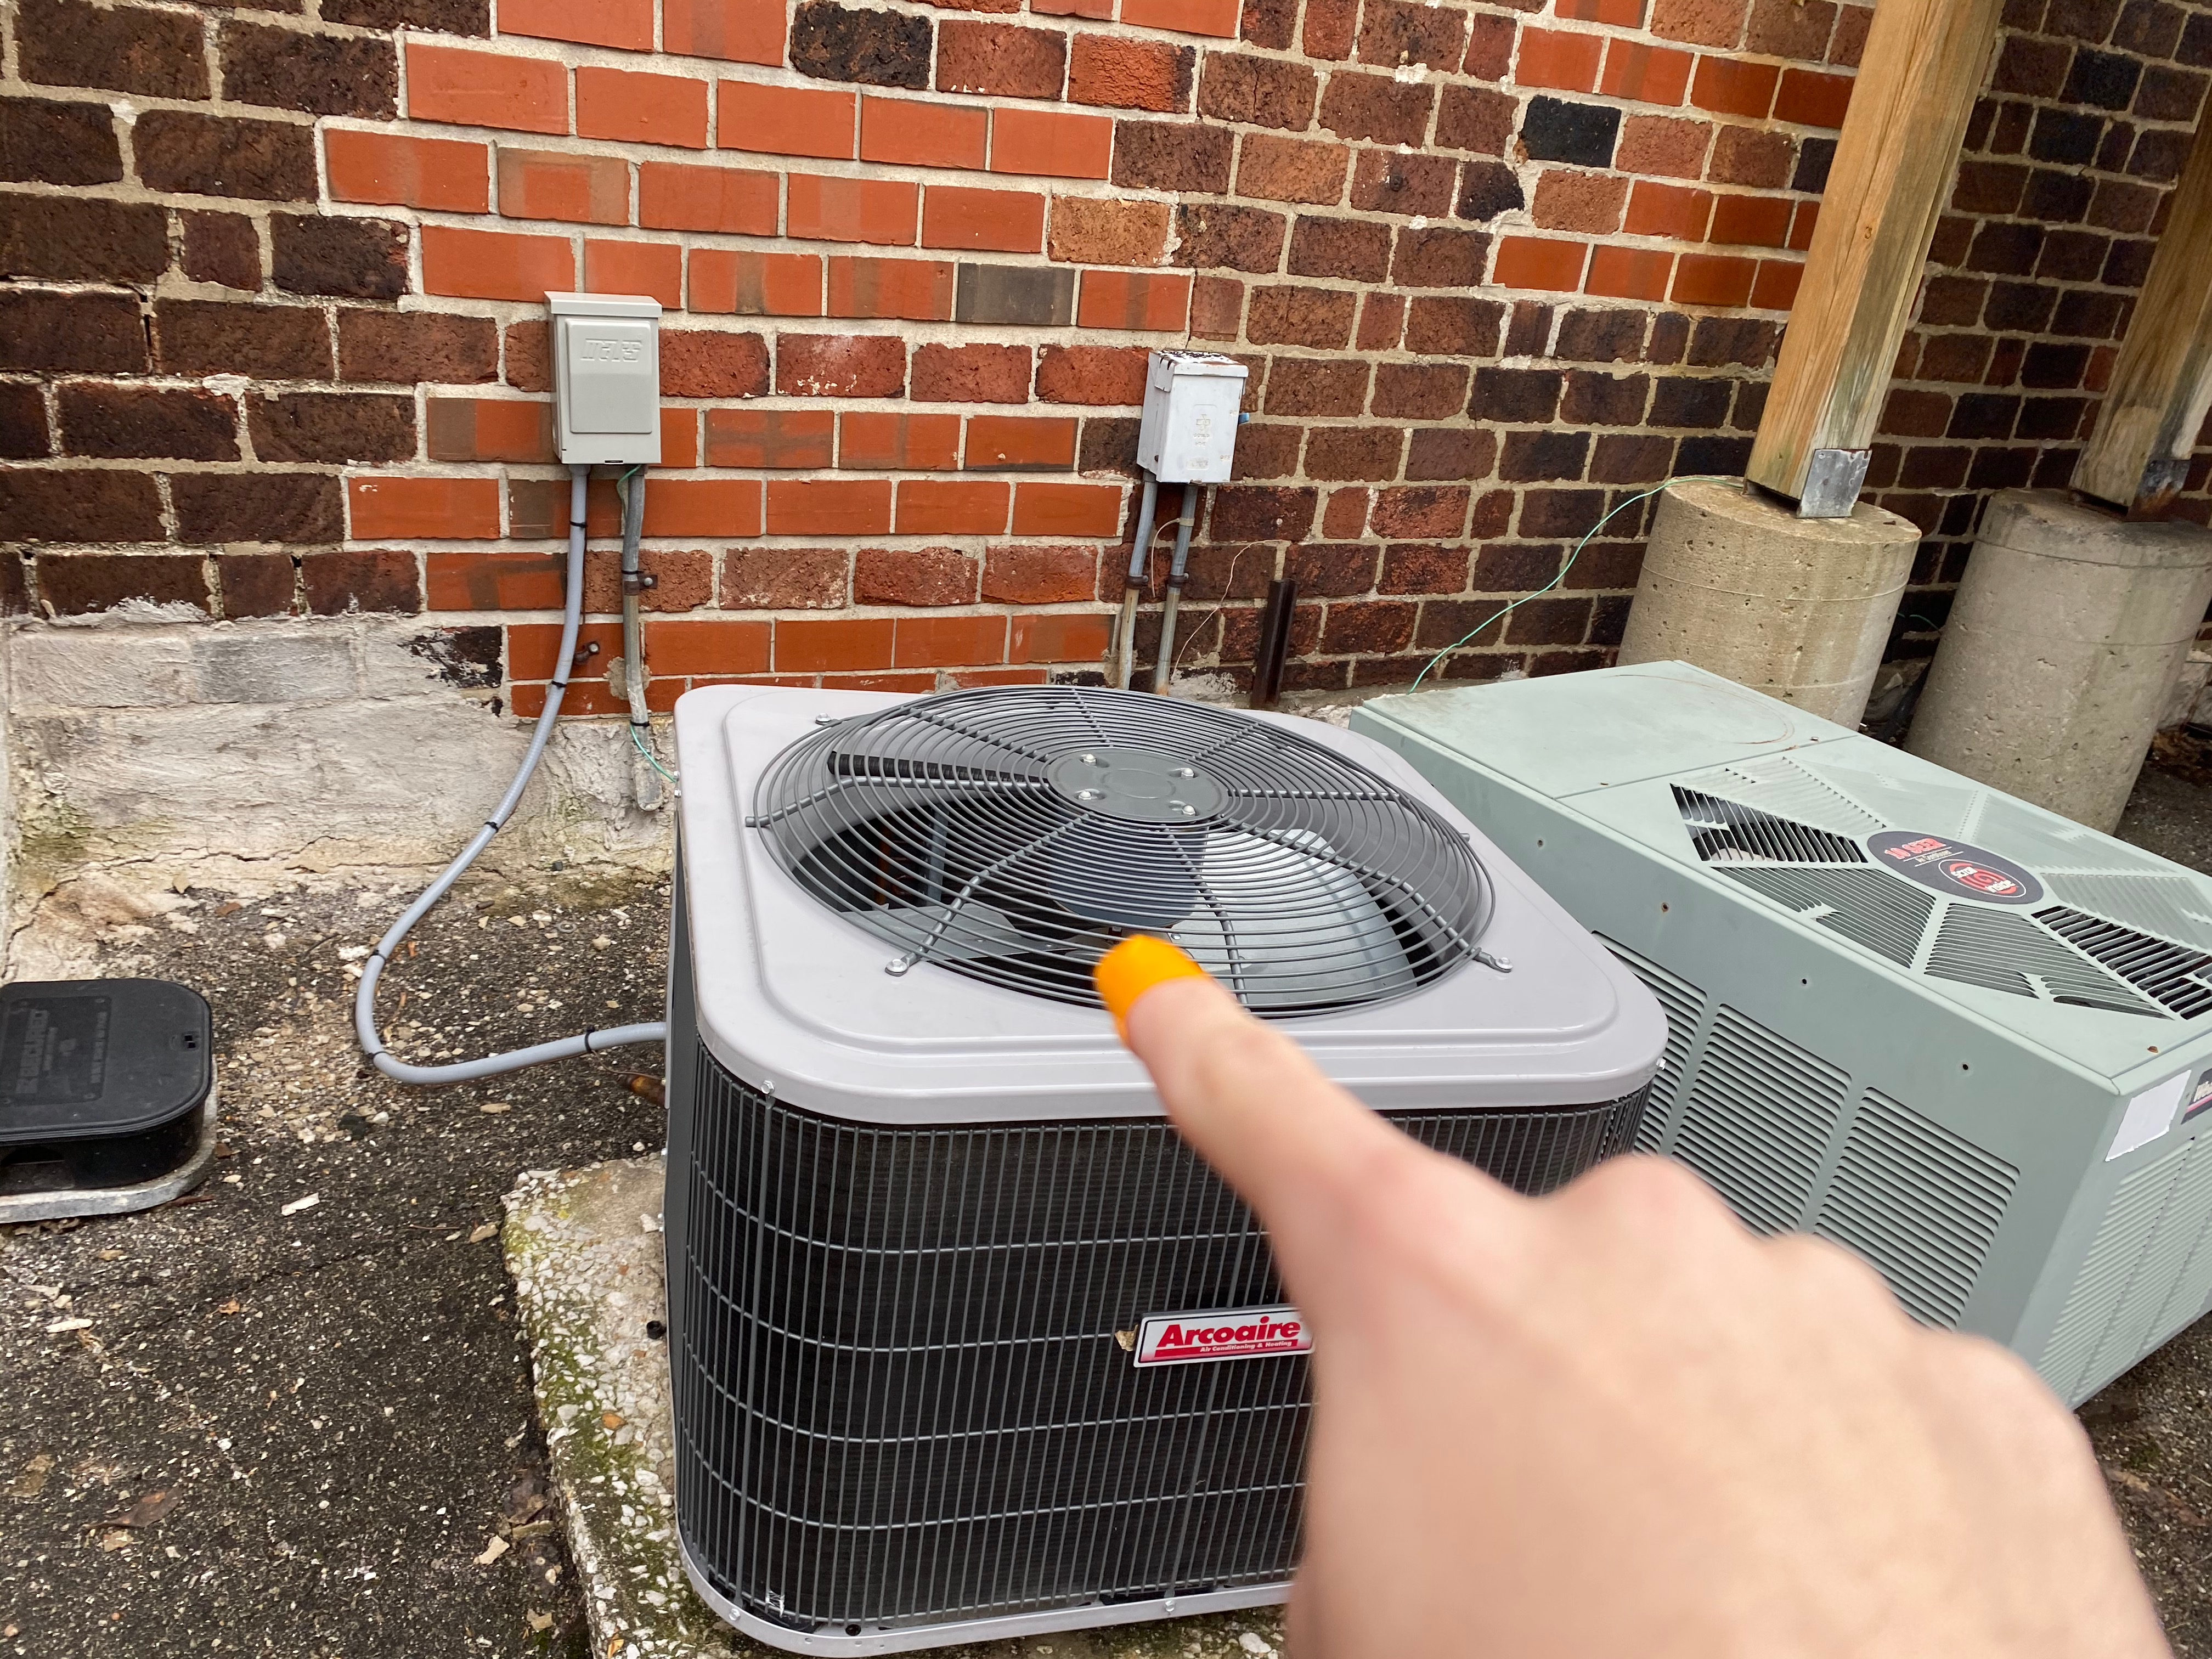fingertip: (1078, 925, 1277, 1056)
